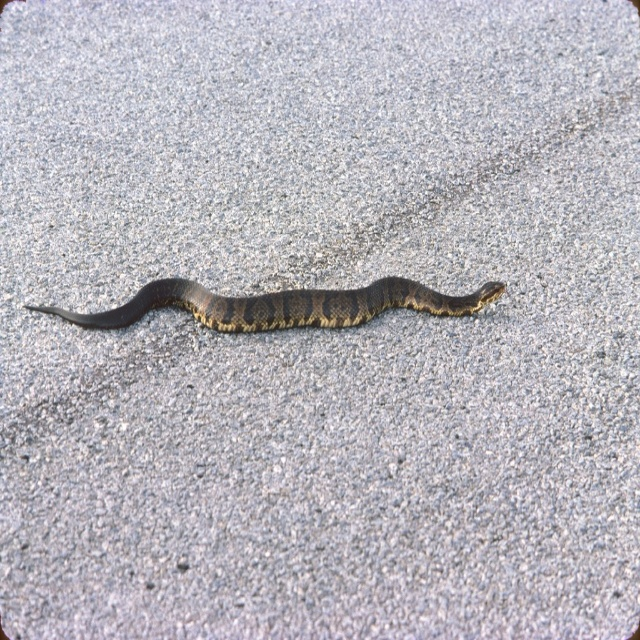Snake: (25, 270, 506, 330)
